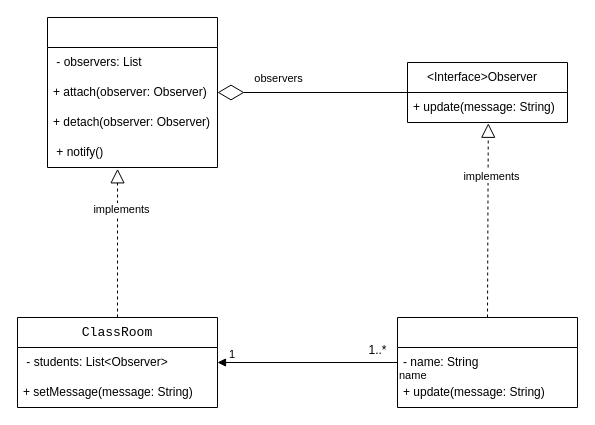
Image size: 595x425. Some labels were removed from this diagram. Each missing label, with the box of its shape:
<Interface>Subject: (46, 16, 218, 168)
Student: (396, 316, 578, 408)
